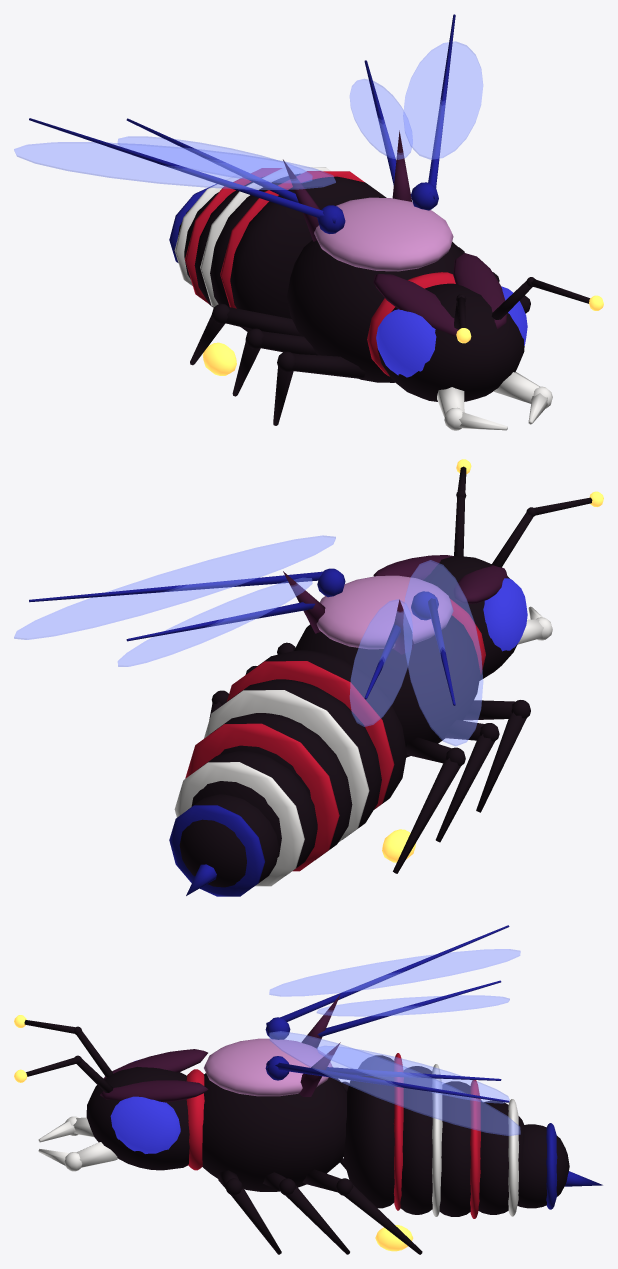
File: Grix_Rudar.fbx
The picture shows the model from 3 angles, top to bottom: view 1: azimuth 30°, elevation 25°; view 2: azimuth 150°, elevation 25°; view 3: azimuth 270°, elevation 25°; orthographic projection. The views are drawn at different scales.
Parts seen in each view (by area): view 1: Body, Cargo; view 2: Body, Cargo; view 3: Body, Cargo.
Part boxes in pixels (box(x1,y1,x2,y2)): Body: box(14, 14, 603, 430); Cargo: box(169, 167, 386, 375); Body: box(14, 459, 603, 873); Cargo: box(169, 650, 415, 896); Body: box(14, 925, 520, 1254); Cargo: box(343, 1053, 602, 1251).
Size of the model in its own units: 2.31 by 1.16 by 3.1.
